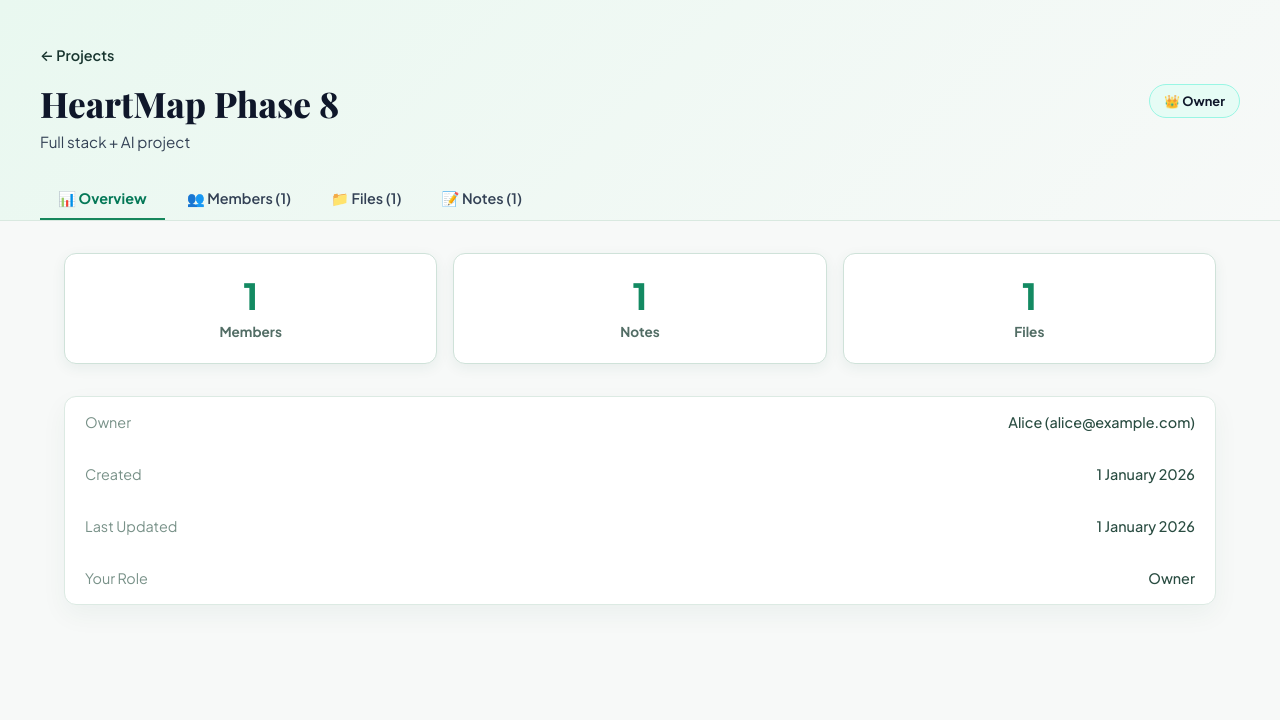
Test case: ProjectDetailPage › clicking Notes tab shows New Note button
Click the button "📝 Notes (1)": [482, 199] box left=424, top=179, right=540, bottom=220
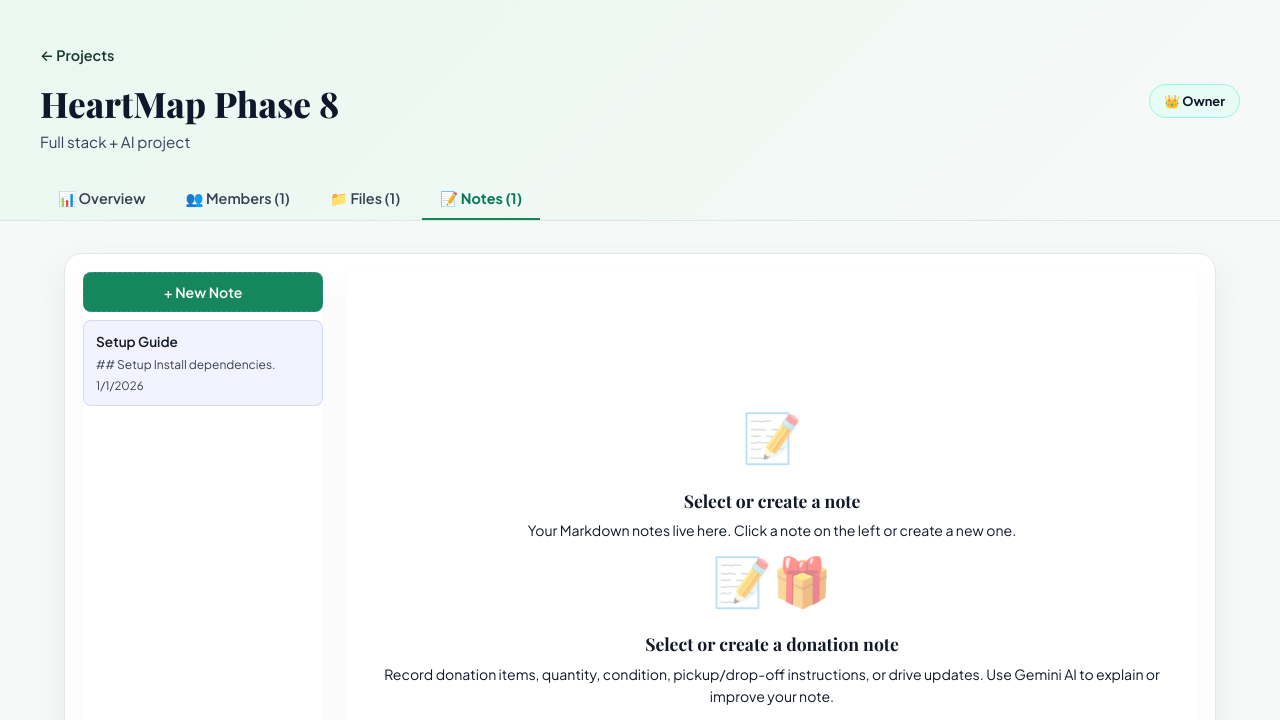
expect the button with test id "new-note-btn" is shown: met, box left=83, top=272, right=323, bottom=312
